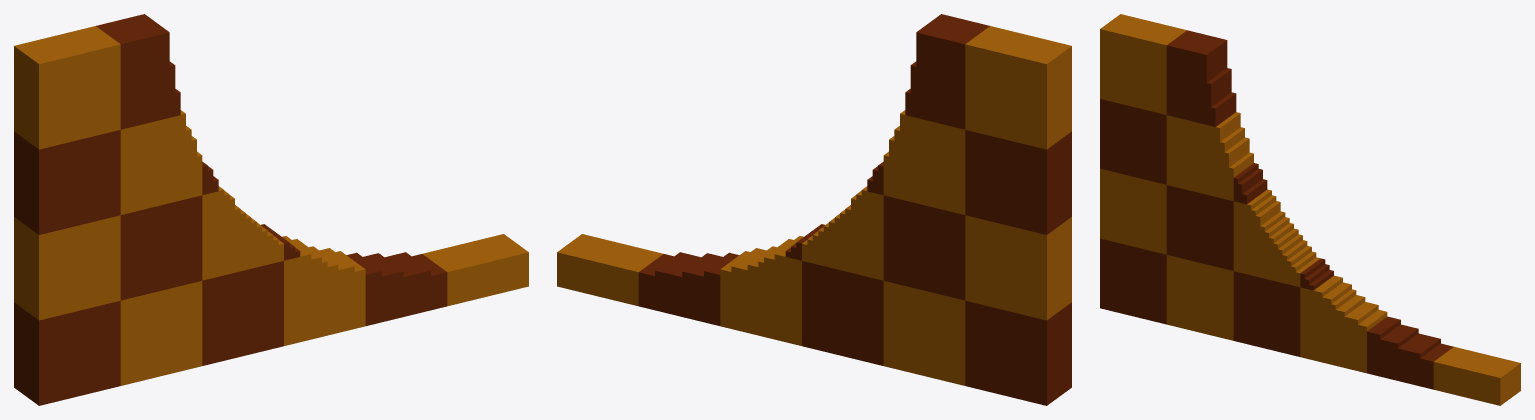
The model's file is loop_mitad.obj.
3 renders of one model, left to right at view 1: azimuth 30°, elevation 25°; view 2: azimuth 150°, elevation 25°; view 3: azimuth 330°, elevation 25°, orthographic. The views are drawn at different scales.
Size of the model in its own units: 9 by 6 by 0.8.
